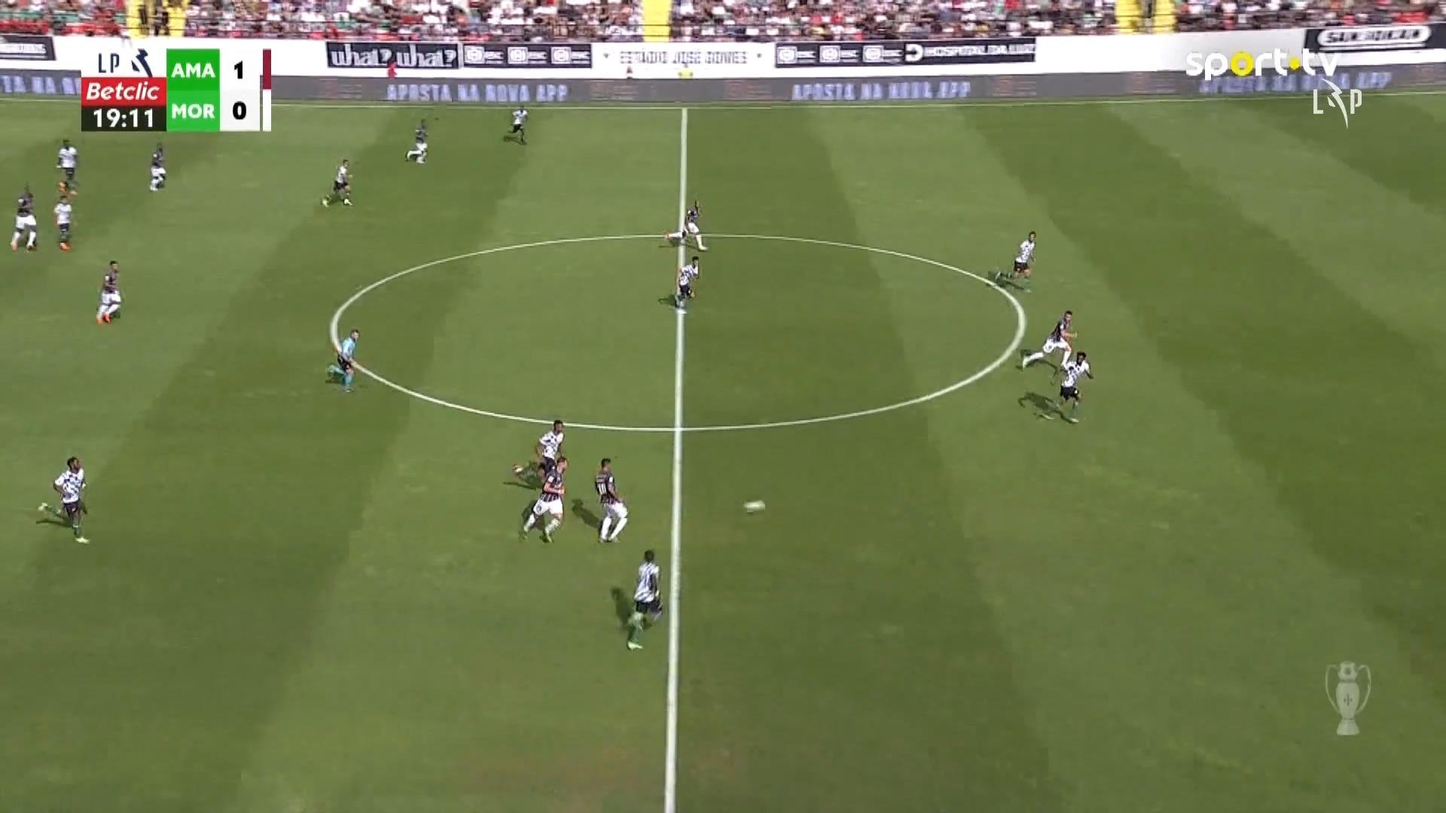ball: (743, 499, 765, 514)
player: (517, 455, 568, 543), (624, 549, 664, 650), (1017, 309, 1078, 373), (511, 419, 566, 486), (52, 455, 90, 543), (1050, 350, 1094, 423), (593, 457, 629, 543), (994, 231, 1037, 293), (662, 199, 708, 251), (10, 184, 38, 251), (95, 259, 123, 324), (534, 419, 565, 477), (320, 157, 354, 207), (673, 254, 700, 311), (55, 137, 78, 195), (53, 193, 74, 251), (404, 118, 429, 163), (502, 105, 529, 144), (148, 141, 167, 192)
referee: (325, 328, 359, 392)
